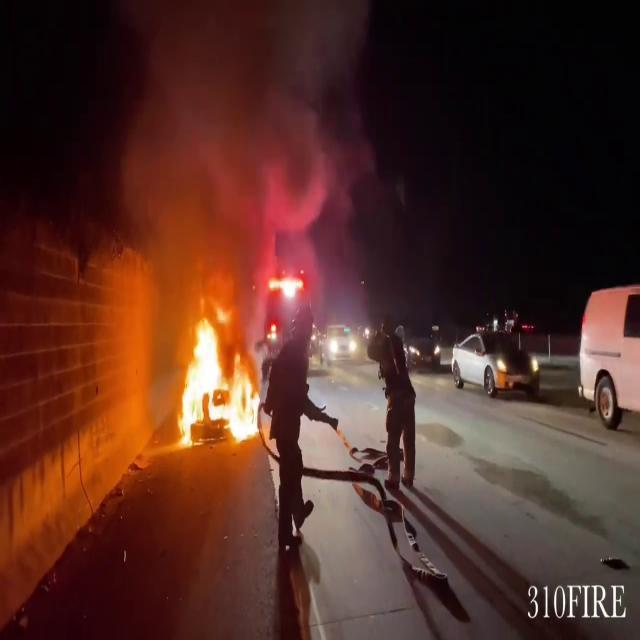Fire: (167, 304, 258, 448)
Smoke: (86, 1, 368, 321)
